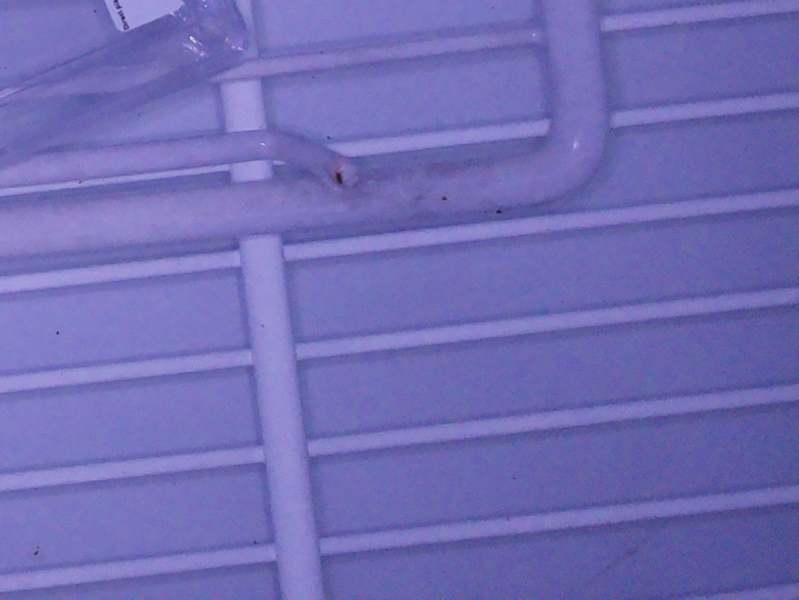plate: (1, 1, 253, 165)
